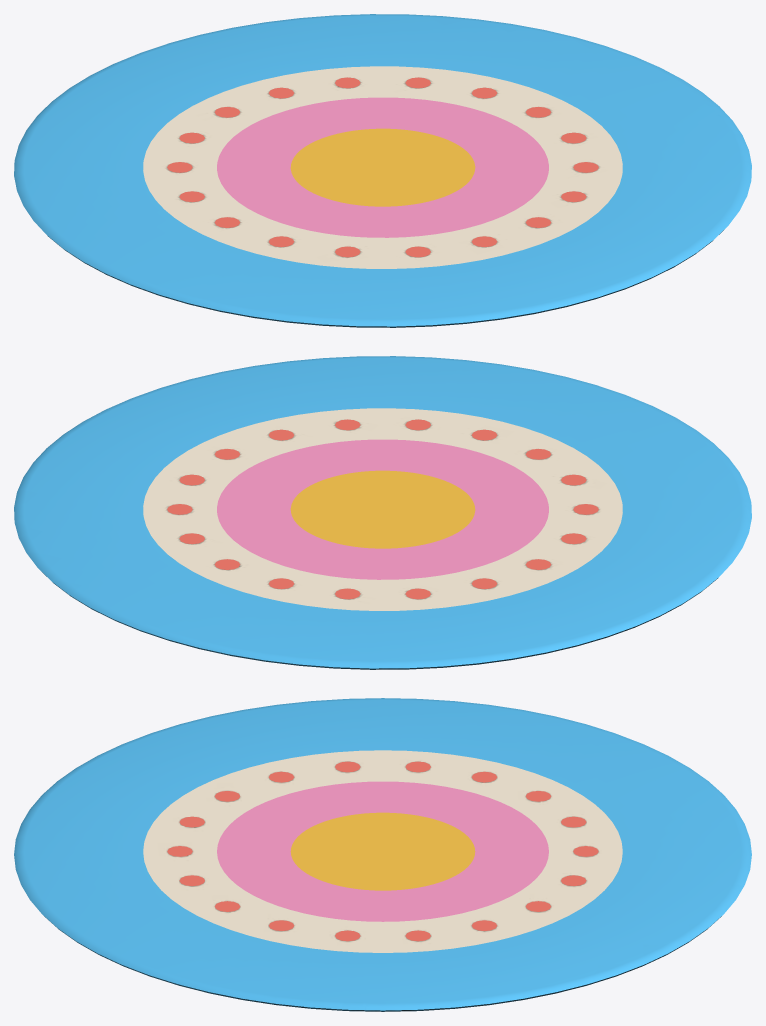
Rendered from rug_round.glb.
3 renders of one model, top to bottom at view 1: azimuth 30°, elevation 25°; view 2: azimuth 150°, elevation 25°; view 3: azimuth 270°, elevation 25°, orthographic.
Visible parts, largest first — view 1: rug_round; view 2: rug_round; view 3: rug_round.
Part boxes in pixels (x1,y1,x2,y2): rug_round: (14, 14, 751, 327); rug_round: (14, 356, 751, 669); rug_round: (14, 698, 751, 1011).
Size of the model in its own units: 1.6 by 0.0146 by 1.6.
Materials: 5 (5 with a texture image).
